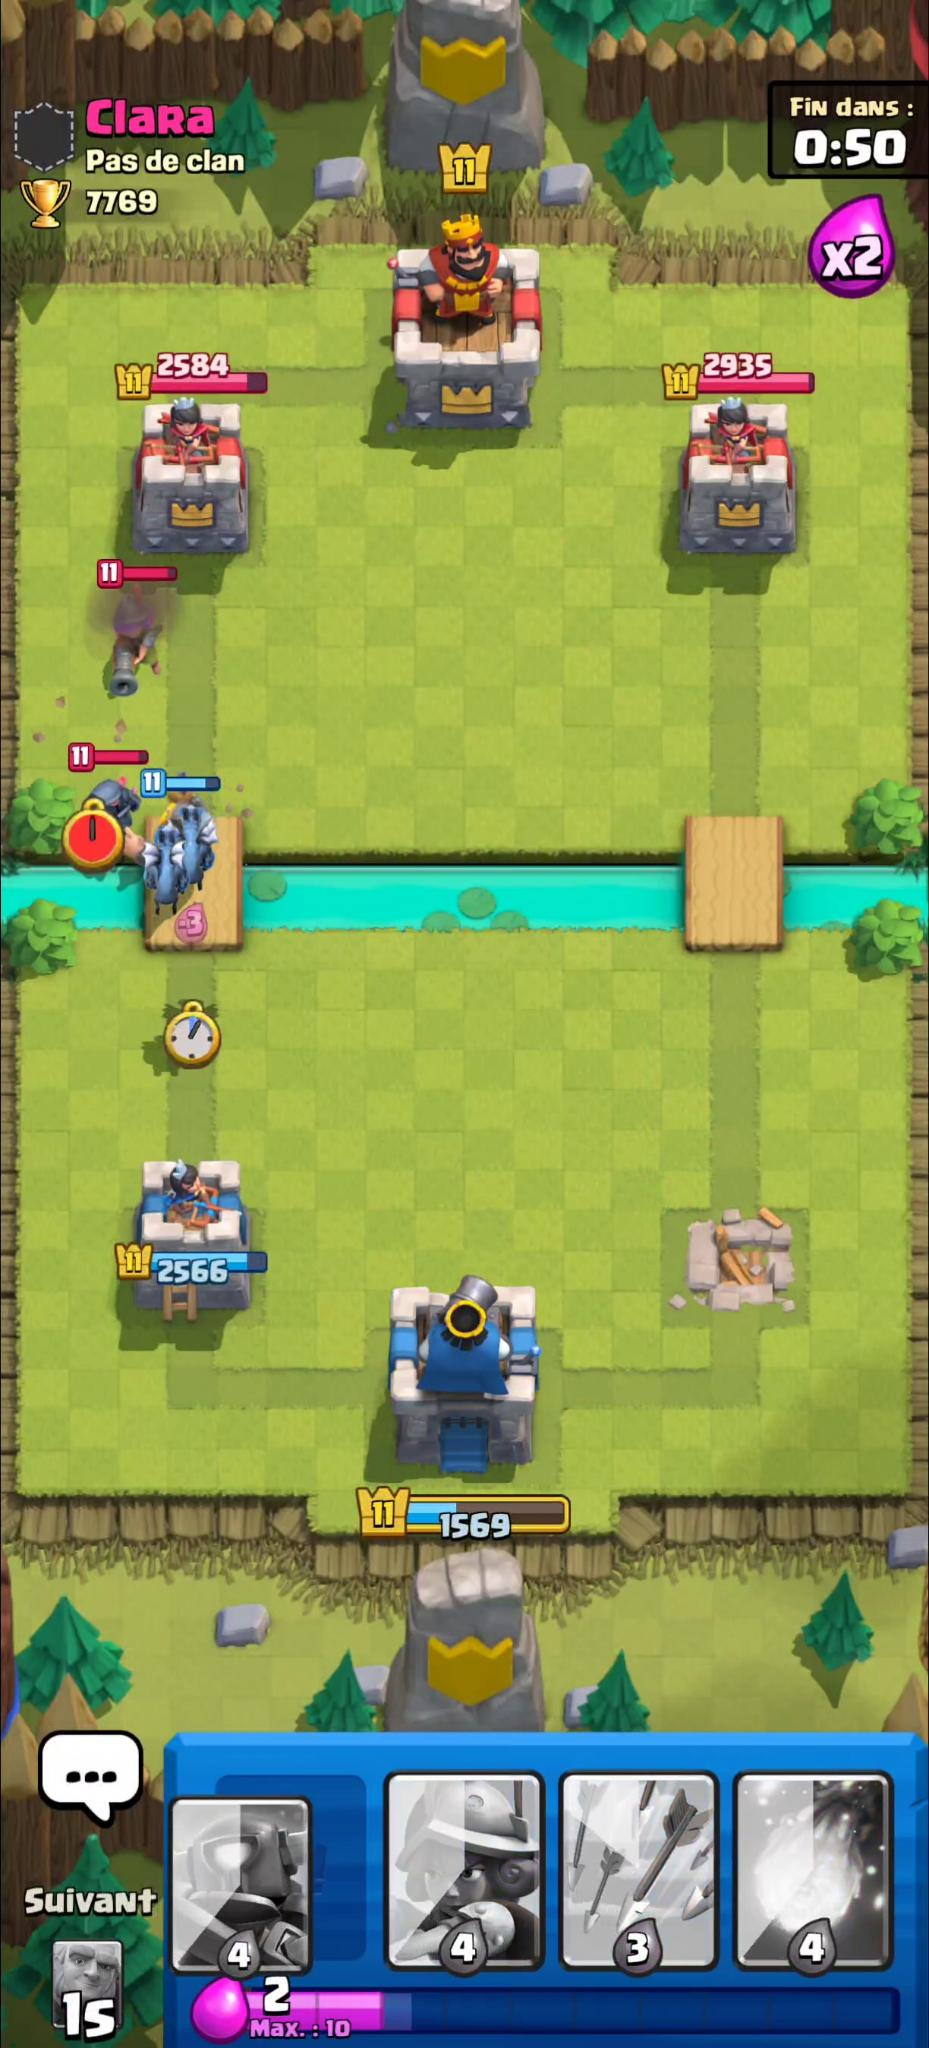gargouille: (142, 823, 188, 917), (178, 806, 216, 891)
mini_PEKKA: (88, 775, 145, 832)
mousquetaire: (103, 588, 170, 700)
